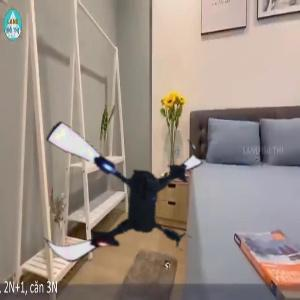drone: (24, 107, 207, 290)
